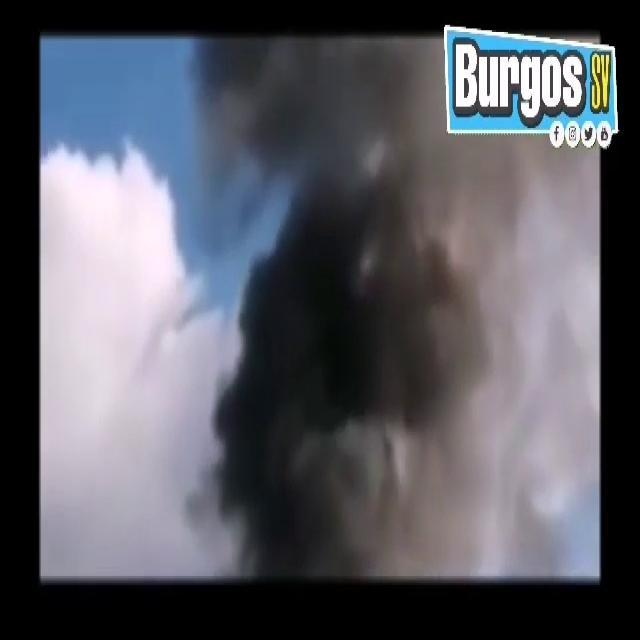Smoke: (186, 19, 597, 594)
